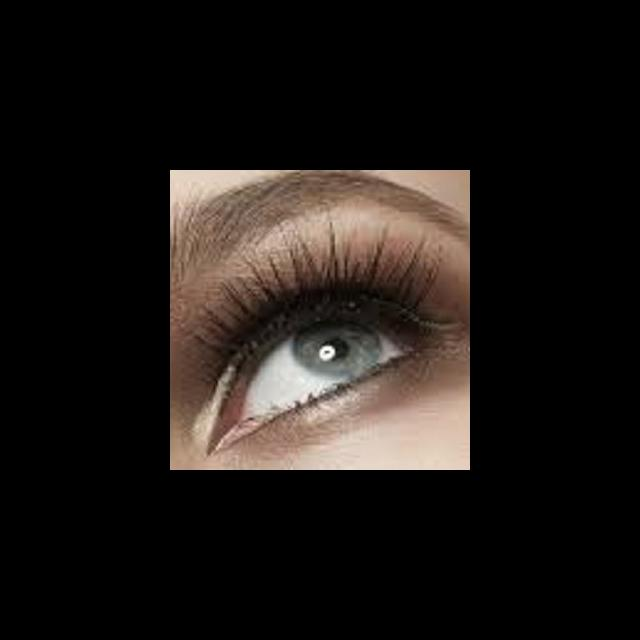eye: (231, 318, 412, 423)
iris: (291, 323, 383, 380)
